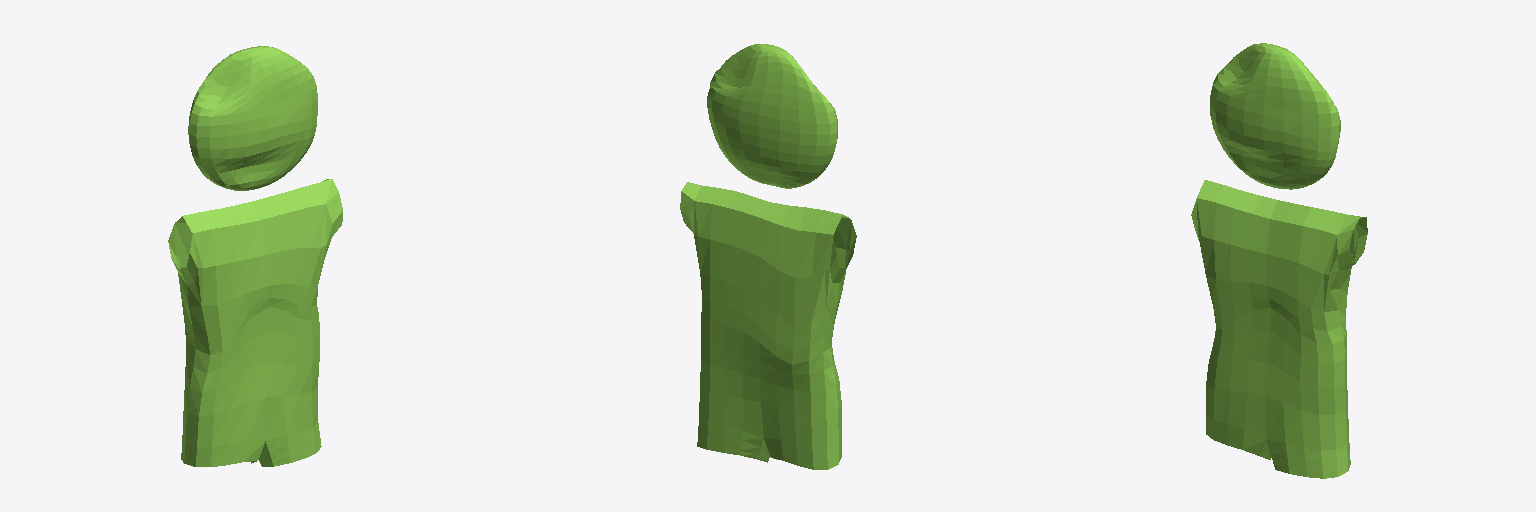
The model's file is body.obj.
The picture shows the model from 3 angles: view 1: azimuth 30°, elevation 25°; view 2: azimuth 150°, elevation 25°; view 3: azimuth 330°, elevation 25°; orthographic projection.
Parts seen in each view (by area): view 1: Stickman_Cube.017; view 2: Stickman_Cube.017; view 3: Stickman_Cube.017.
Boxes of the visible parts, x1=… form: Stickman_Cube.017: x1=168, y1=46, x2=342, y2=466; Stickman_Cube.017: x1=680, y1=44, x2=856, y2=469; Stickman_Cube.017: x1=1191, y1=43, x2=1367, y2=478.
Size of the model in its own units: 1.63 by 4.17 by 0.5145.